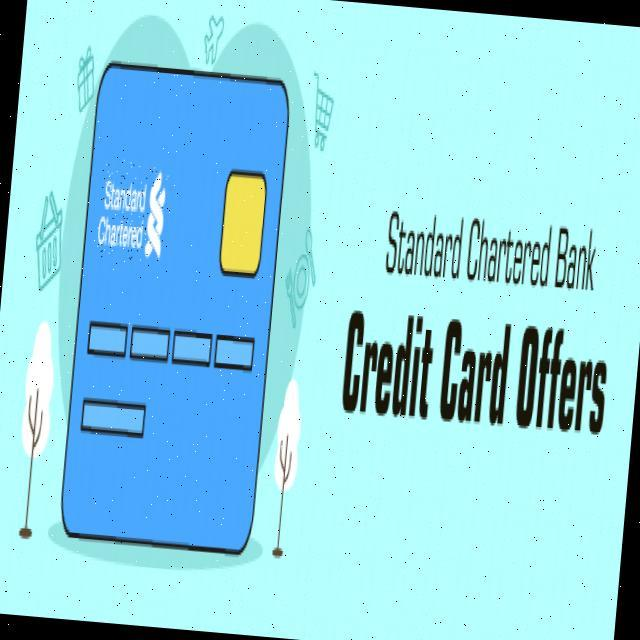Standard Chartered: (95, 158, 170, 262)
